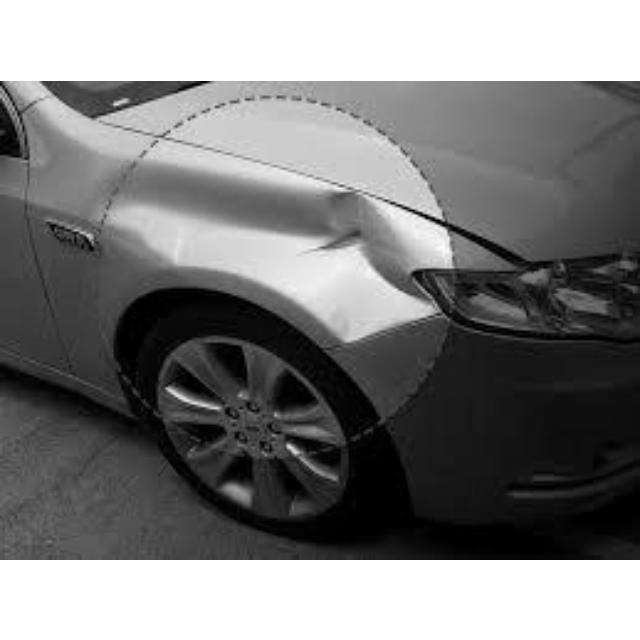fender-dent: (35, 174, 437, 346)
